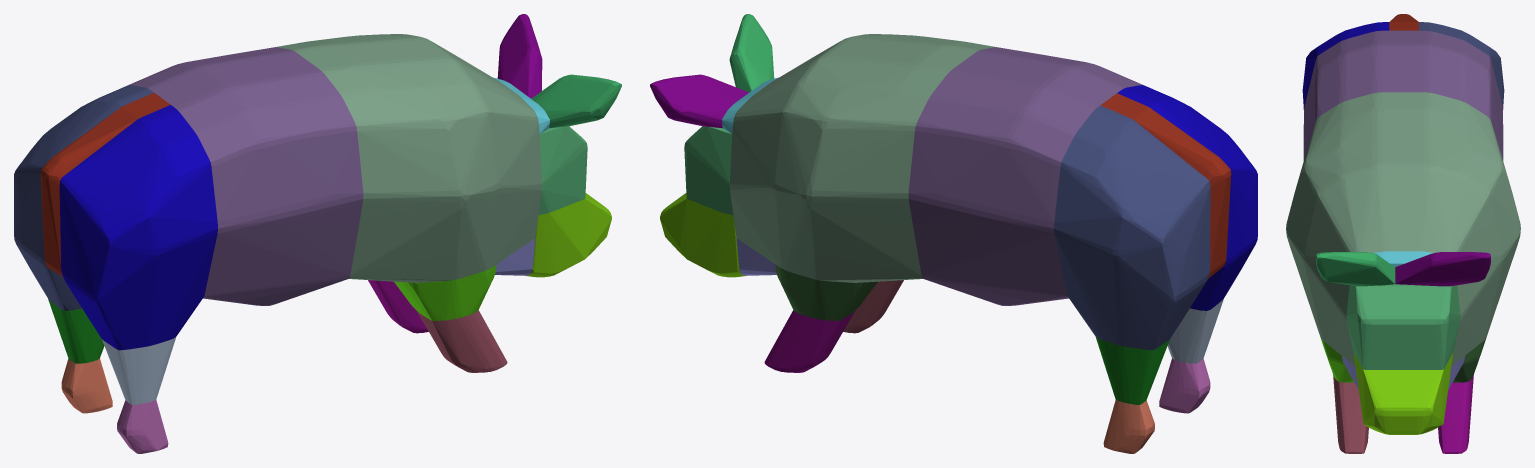
File: pig_coacd.obj
The picture shows the model from 3 angles, left to right: view 1: azimuth 30°, elevation 25°; view 2: azimuth 150°, elevation 25°; view 3: azimuth 270°, elevation 25°; orthographic projection. The views are drawn at different scales.
Parts seen in each view (by area): view 1: geometry_0, geometry_1, geometry_5, geometry_16, geometry_15, geometry_4, geometry_3, geometry_10, geometry_13, geometry_17, geometry_6, geometry_11 (+5 smaller); view 2: geometry_0, geometry_1, geometry_16, geometry_5, geometry_15, geometry_4, geometry_3, geometry_11, geometry_14, geometry_19, geometry_8, geometry_10 (+5 smaller); view 3: geometry_0, geometry_1, geometry_3, geometry_4, geometry_11, geometry_10, geometry_13, geometry_14, geometry_5, geometry_16, geometry_17, geometry_19 (+3 smaller).
Boxes of the visible parts, left/top/right/bottom form: geometry_0: left=275, top=34, right=542, bottom=282; geometry_1: left=128, top=47, right=363, bottom=305; geometry_5: left=59, top=105, right=217, bottom=350; geometry_16: left=14, top=85, right=153, bottom=310; geometry_15: left=40, top=93, right=170, bottom=276; geometry_4: left=525, top=193, right=611, bottom=277; geometry_3: left=538, top=126, right=587, bottom=215; geometry_10: left=531, top=74, right=621, bottom=128; geometry_13: left=417, top=310, right=507, bottom=372; geometry_17: left=394, top=264, right=496, bottom=320; geometry_6: left=102, top=337, right=175, bottom=405; geometry_11: left=497, top=14, right=542, bottom=98; geometry_0: left=729, top=34, right=996, bottom=282; geometry_1: left=908, top=47, right=1143, bottom=305; geometry_16: left=1054, top=105, right=1210, bottom=350; geometry_5: left=1117, top=85, right=1257, bottom=310; geometry_15: left=1101, top=93, right=1231, bottom=279; geometry_4: left=660, top=193, right=746, bottom=277; geometry_3: left=684, top=126, right=733, bottom=215; geometry_11: left=650, top=74, right=748, bottom=128; geometry_14: left=764, top=310, right=854, bottom=372; geometry_19: left=775, top=264, right=877, bottom=320; geometry_8: left=1096, top=337, right=1169, bottom=405; geometry_10: left=729, top=14, right=774, bottom=92; geometry_0: left=1286, top=92, right=1520, bottom=366; geometry_1: left=1303, top=30, right=1503, bottom=160; geometry_3: left=1346, top=284, right=1460, bottom=369; geometry_4: left=1353, top=352, right=1453, bottom=434; geometry_11: left=1395, top=252, right=1490, bottom=286; geometry_10: left=1316, top=252, right=1395, bottom=286; geometry_13: left=1333, top=374, right=1368, bottom=453; geometry_14: left=1438, top=374, right=1473, bottom=453; geometry_5: left=1302, top=22, right=1389, bottom=109; geometry_16: left=1419, top=22, right=1504, bottom=109; geometry_17: left=1320, top=337, right=1354, bottom=382; geometry_19: left=1453, top=337, right=1486, bottom=382.
Bounding box in the file's own units: 30.02 × 17.01 × 12.22.
